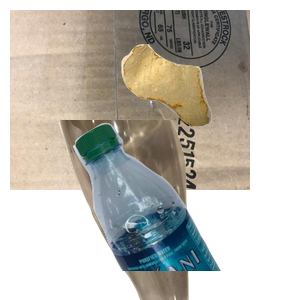cardboard: (10, 10, 250, 190)
glass: (56, 120, 241, 300)
plastic: (71, 120, 300, 300)
trash: (119, 42, 300, 161)
